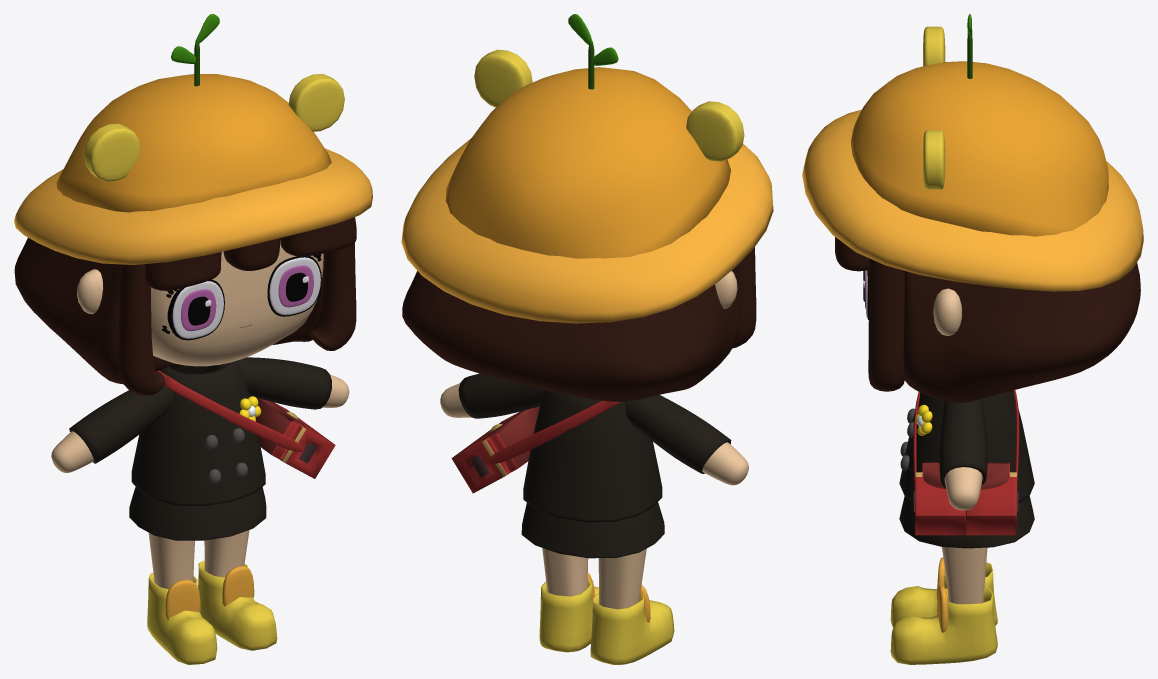
The model's file is WatanabeFinal.fbx.
The picture shows the model from 3 angles, left to right: view 1: azimuth 30°, elevation 25°; view 2: azimuth 150°, elevation 25°; view 3: azimuth 270°, elevation 25°; orthographic projection. The views are drawn at different scales.
Parts seen in each view (by area): view 1: Chapeu em cima.001, Chapeu lado.001, Blusa.001, Cabelo.002, Cabeca.001, Ladinho.002, Jaqueta.001, Sapato.001, Bolinhas.001, Saia.001, Franja Lado.002, Pernas.001 (+11 smaller); view 2: Chapeu em cima.001, Chapeu lado.001, Cabelo.002, Blusa.001, Sapato.001, Jaqueta.001, Saia.001, Bolinhas.001, Pernas.001, Cube.001, Bracos.001, Cube (+3 smaller); view 3: Chapeu em cima.001, Chapeu lado.001, Cabelo.002, Sapato.001, Blusa.001, Cube.001, Ladinho.002, Jaqueta.001, Pernas.001, Saia.001, Bolinhas.001, Bracos.001 (+5 smaller).
Boxes of the visible parts, x1=… form: Chapeu em cima.001: x1=56, y1=74, x2=331, y2=212; Chapeu lado.001: x1=14, y1=148, x2=372, y2=264; Blusa.001: x1=131, y1=360, x2=265, y2=505; Cabelo.002: x1=14, y1=237, x2=322, y2=383; Cabeca.001: x1=151, y1=240, x2=323, y2=366; Ladinho.002: x1=118, y1=242, x2=356, y2=395; Jaqueta.001: x1=69, y1=357, x2=331, y2=463; Sapato.001: x1=147, y1=560, x2=277, y2=664; Bolinhas.001: x1=84, y1=74, x2=344, y2=181; Saia.001: x1=129, y1=487, x2=266, y2=540; Franja Lado.002: x1=145, y1=217, x2=356, y2=290; Pernas.001: x1=148, y1=530, x2=249, y2=589; Chapeu em cima.001: x1=445, y1=67, x2=730, y2=258; Chapeu lado.001: x1=401, y1=138, x2=773, y2=323; Cabelo.002: x1=402, y1=268, x2=739, y2=401; Blusa.001: x1=523, y1=390, x2=662, y2=522; Sapato.001: x1=539, y1=579, x2=674, y2=664; Jaqueta.001: x1=458, y1=373, x2=731, y2=473; Saia.001: x1=521, y1=502, x2=664, y2=558; Bolinhas.001: x1=474, y1=49, x2=744, y2=161; Pernas.001: x1=542, y1=548, x2=646, y2=609; Cube.001: x1=451, y1=412, x2=527, y2=493; Bracos.001: x1=440, y1=383, x2=748, y2=485; Cube: x1=488, y1=400, x2=620, y2=463; Chapeu em cima.001: x1=850, y1=61, x2=1108, y2=236; Chapeu lado.001: x1=802, y1=109, x2=1143, y2=291; Cabelo.002: x1=903, y1=263, x2=1140, y2=403; Sapato.001: x1=890, y1=562, x2=997, y2=664; Blusa.001: x1=899, y1=390, x2=1034, y2=512; Cube.001: x1=913, y1=462, x2=1018, y2=535; Ladinho.002: x1=868, y1=258, x2=904, y2=391; Jaqueta.001: x1=939, y1=399, x2=987, y2=488; Pernas.001: x1=941, y1=547, x2=987, y2=603; Saia.001: x1=899, y1=496, x2=1034, y2=548; Bolinhas.001: x1=923, y1=26, x2=945, y2=189; Bracos.001: x1=944, y1=467, x2=982, y2=510.
Size of the model in its own units: 99.79 by 196 by 95.14.
